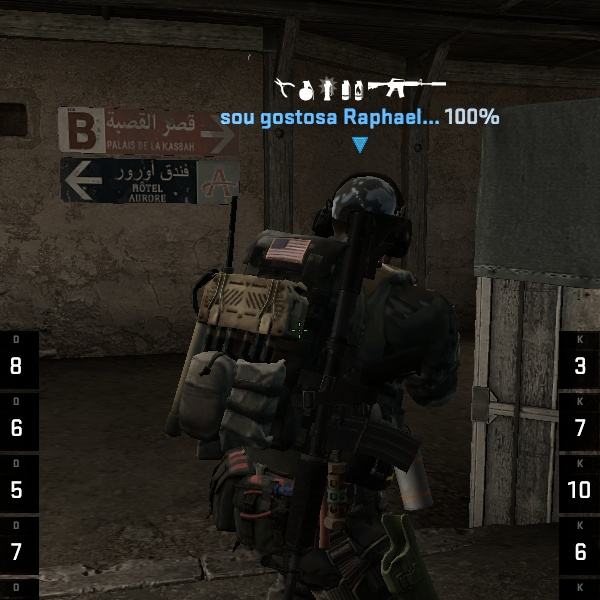ct_body: (171, 181, 465, 599)
ct_head: (291, 153, 424, 268)
